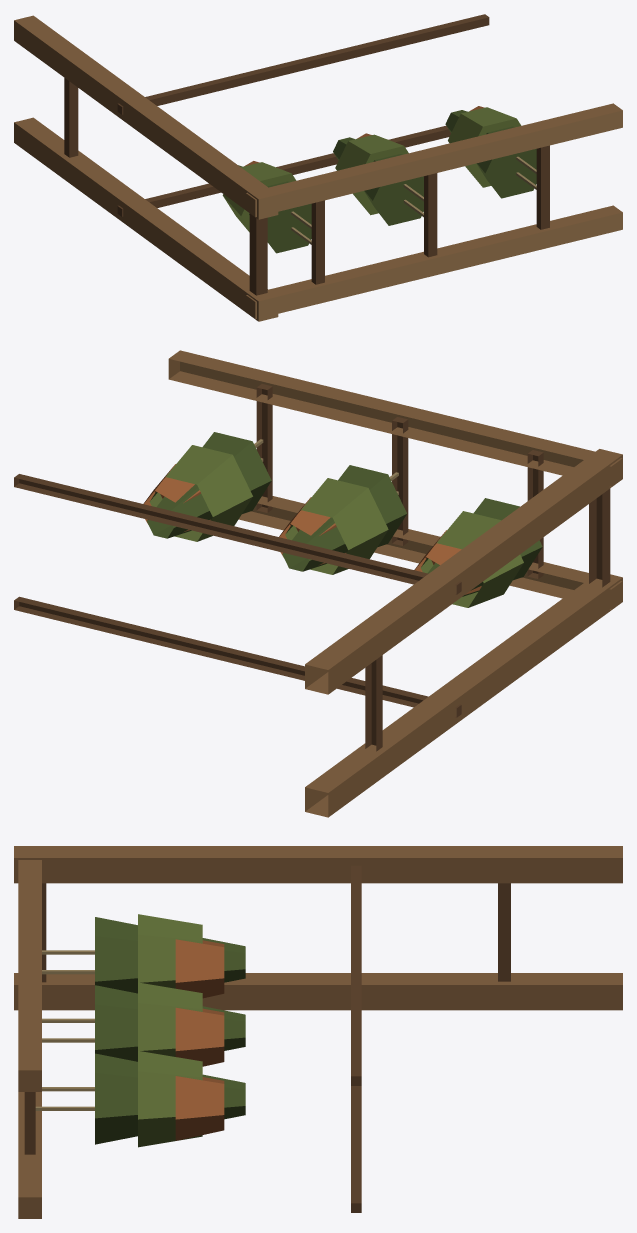
File: b_drying_rack_px.obj
3 renders of one model, top to bottom at view 1: azimuth 30°, elevation 25°; view 2: azimuth 150°, elevation 25°; view 3: azimuth 270°, elevation 25°, orthographic. The views are drawn at different scales.
Size of the model in its own units: 0.98 by 0.312 by 1.13.
Materials: 1 (1 with a texture image).
